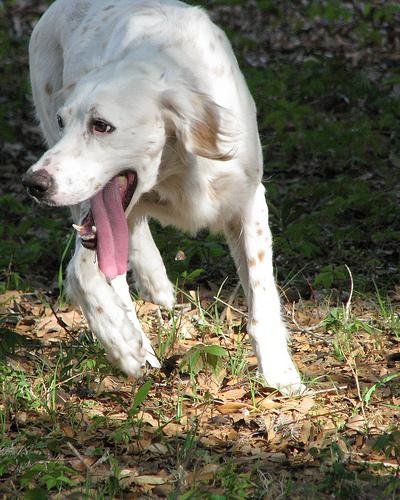dog-english_setter: (21, 58, 227, 277)
